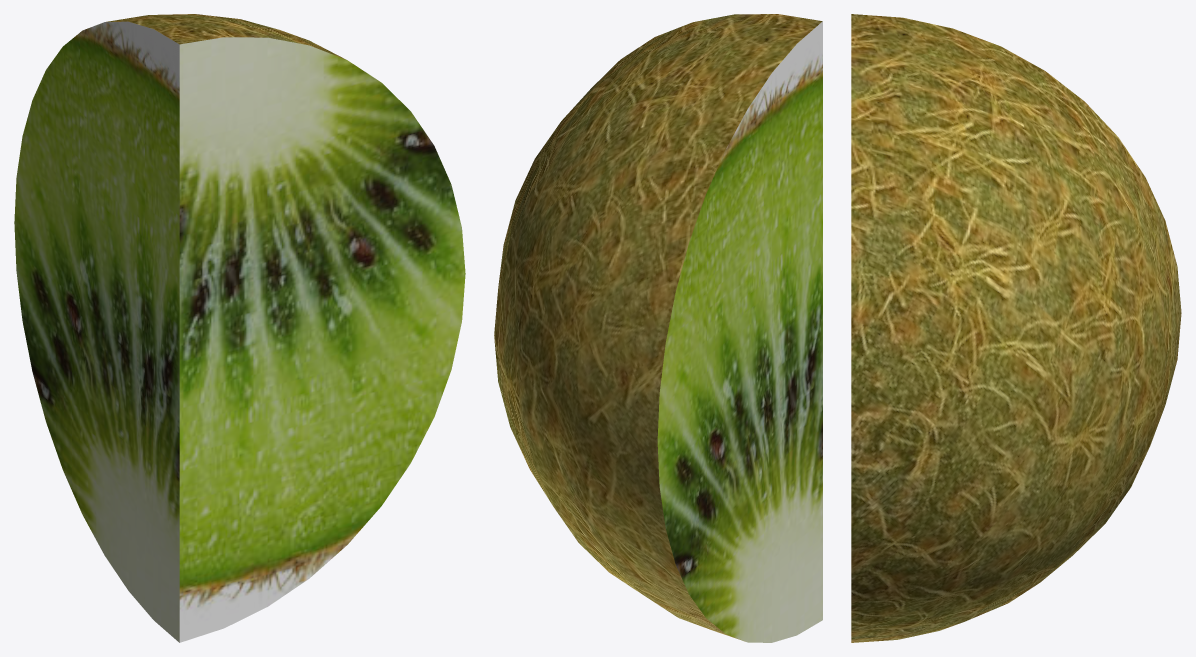
Rendered from Kiwi.obj.
3 renders of one model, left to right at view 1: azimuth 30°, elevation 25°; view 2: azimuth 150°, elevation 25°; view 3: azimuth 270°, elevation 25°, orthographic.
Visible parts, largest first — view 1: Kiwi; view 2: Kiwi; view 3: Kiwi.
Part boxes in pixels (bbox=[...]): Kiwi: bbox=[14, 14, 465, 642]; Kiwi: bbox=[494, 14, 822, 642]; Kiwi: bbox=[851, 14, 1181, 642].
Size of the model in its own units: 1 by 2 by 1.
Materials: 2 (2 with a texture image).
